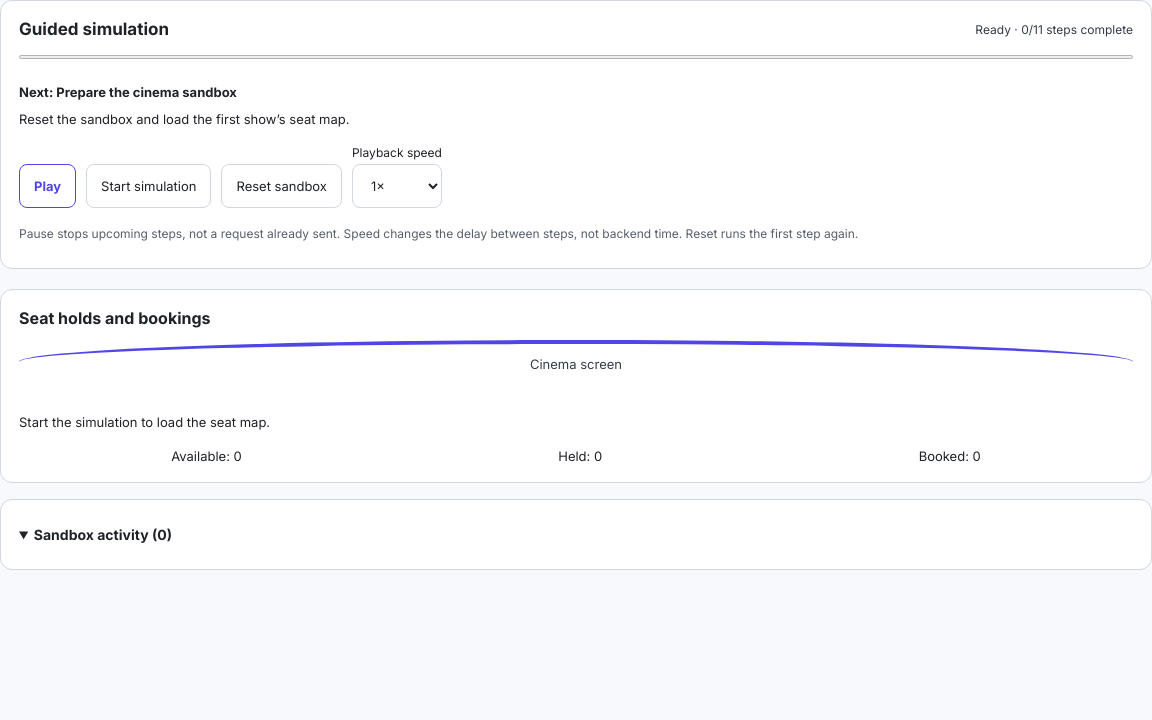
Test: Commerce simulation playback › stops if the supposedly conflicting hold unexpectedly succeeds
This screenshot has width=1152, height=720.
What coordinates should you click on to do the following:
click the button "Start simulation"
I would click on:
 (149, 186)
Its box is x1=86 y1=164 x2=212 y2=208.
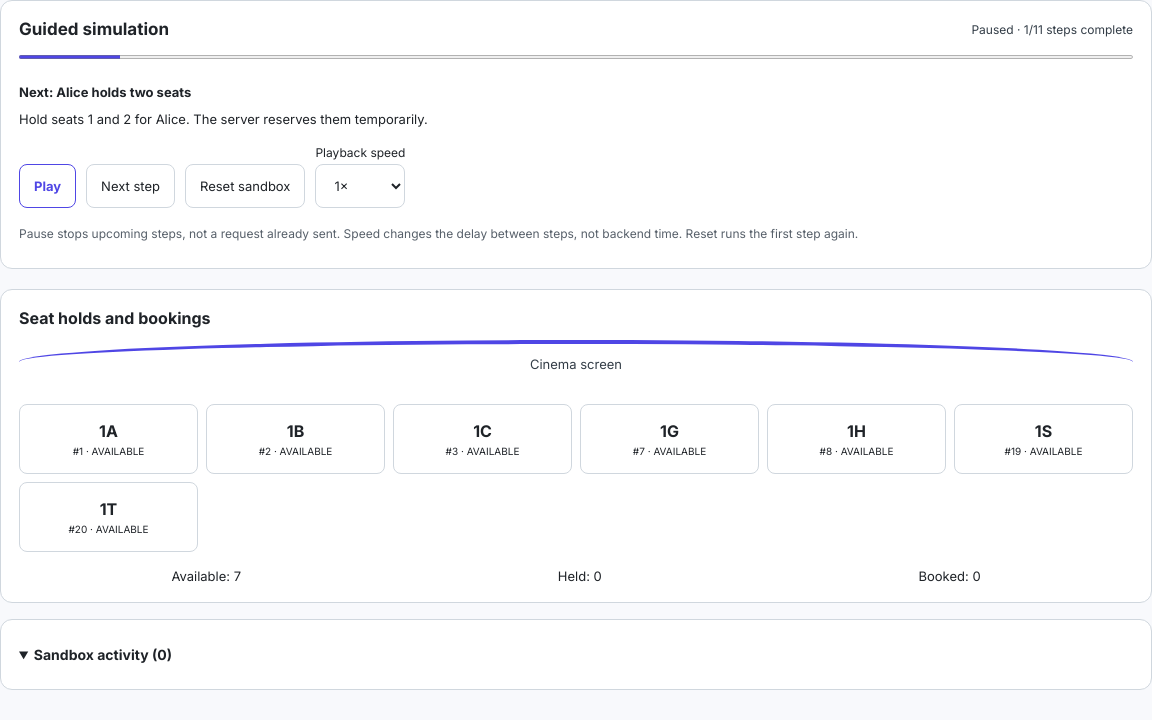
Expected: the progress indicator holds "1", x1=19 y1=53 x2=1133 y2=61
What coordinates should you click on to do the following:
click the button "Next step"
I would click on:
 (131, 186)
Its box is x1=86 y1=164 x2=175 y2=208.
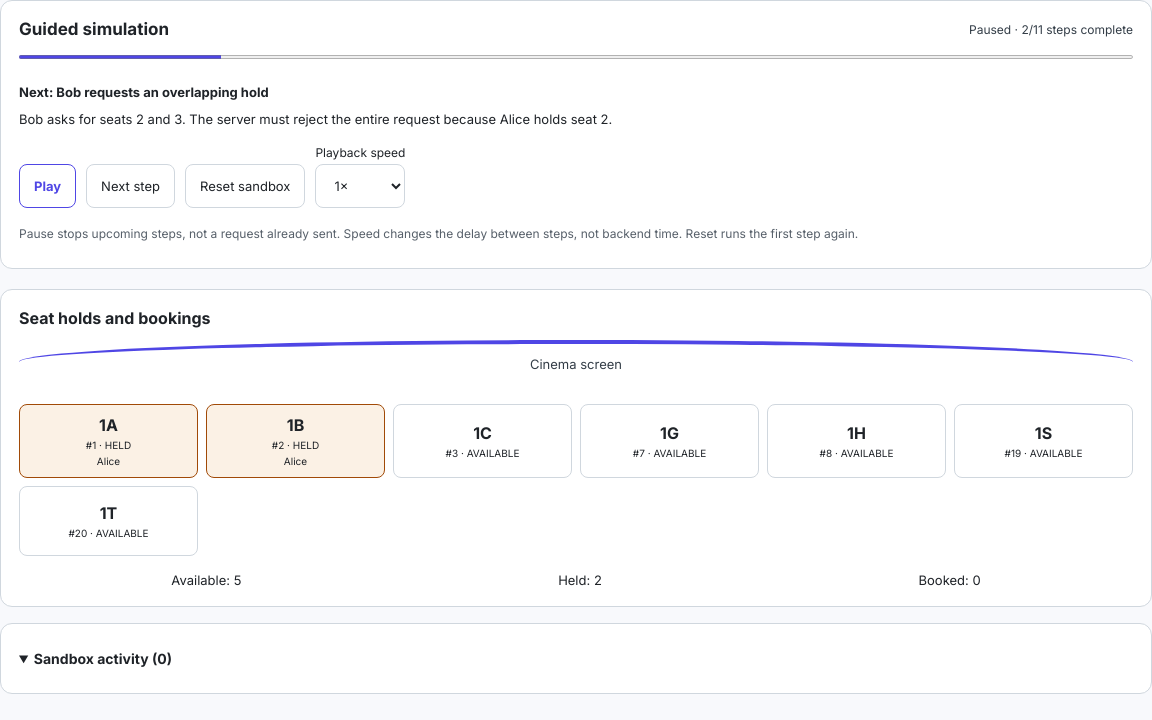
Expected: the progress indicator holds "2", x1=19 y1=53 x2=1133 y2=61
What coordinates should you click on to do the following:
click the button "Next step"
I would click on:
 (131, 186)
Its box is x1=86 y1=164 x2=175 y2=208.
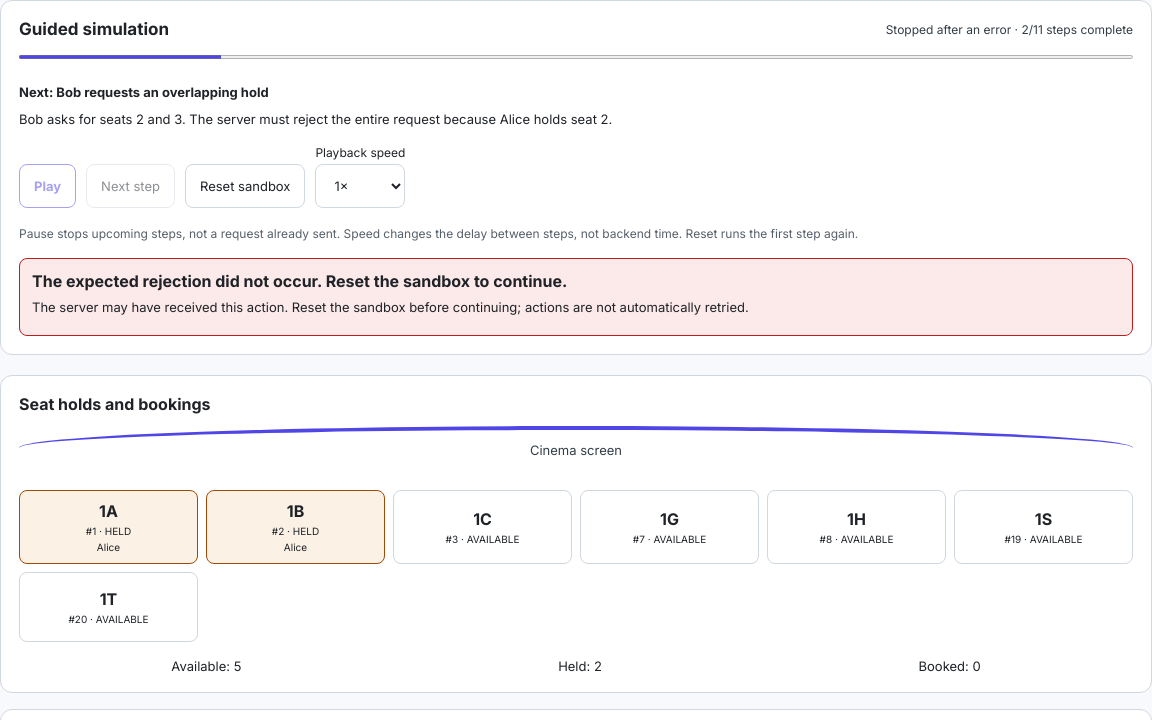
Expected: the progress indicator holds "2", x1=19 y1=53 x2=1133 y2=61
Now the 2nd message shows "expected rejection did not occur", box x1=32 y1=271 x2=567 y2=291
